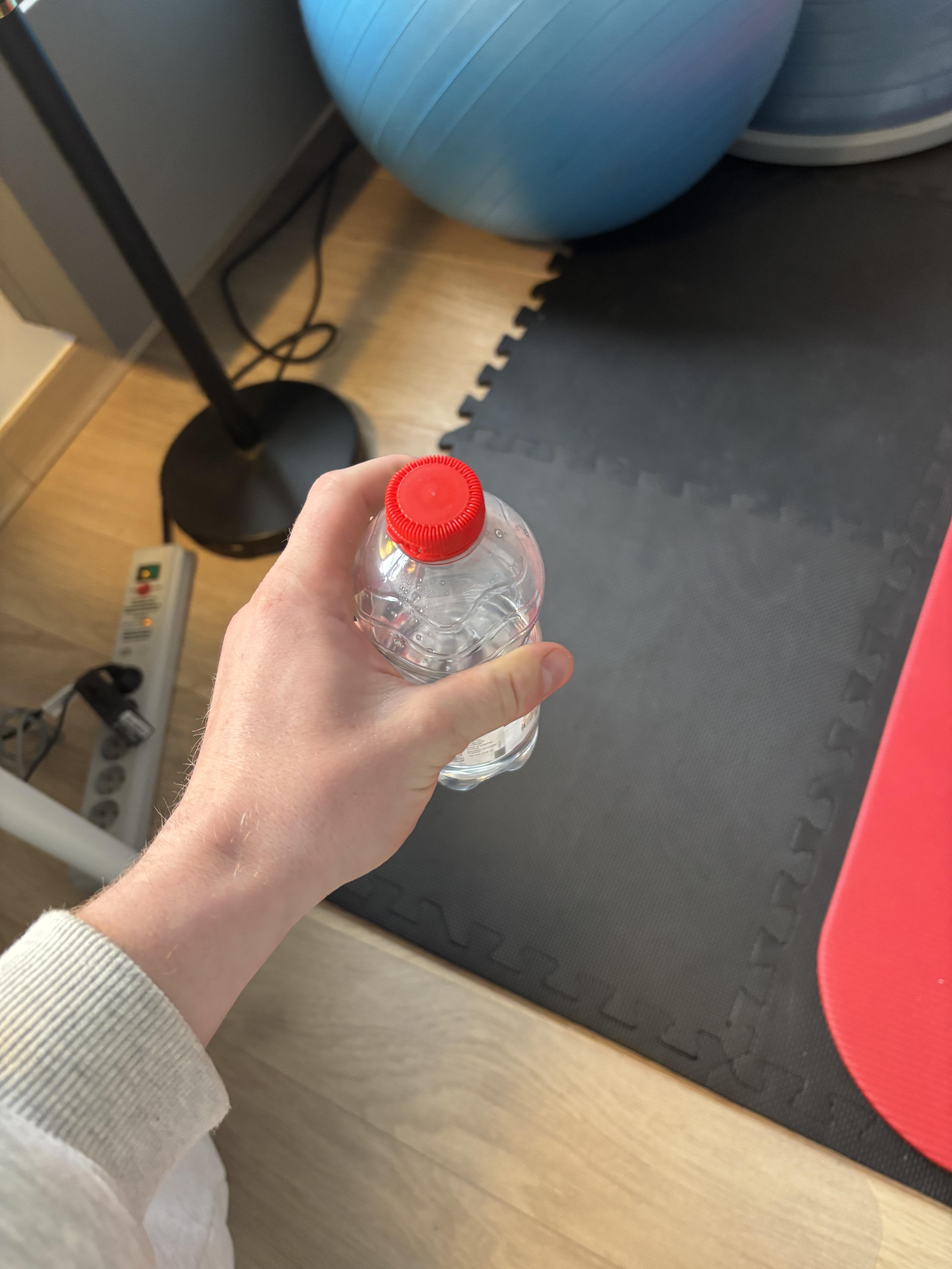Plastic: (349, 457, 548, 794)
